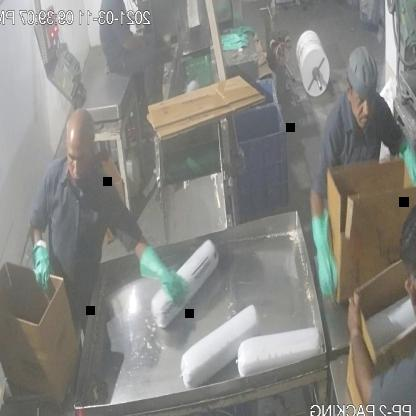glove: (139, 243, 194, 315), (22, 233, 55, 300)
no_glove: (121, 26, 152, 54)
